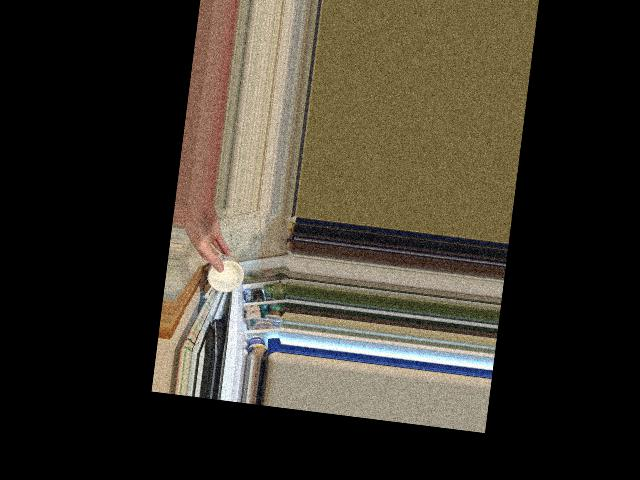cotage: (204, 250, 244, 298)
